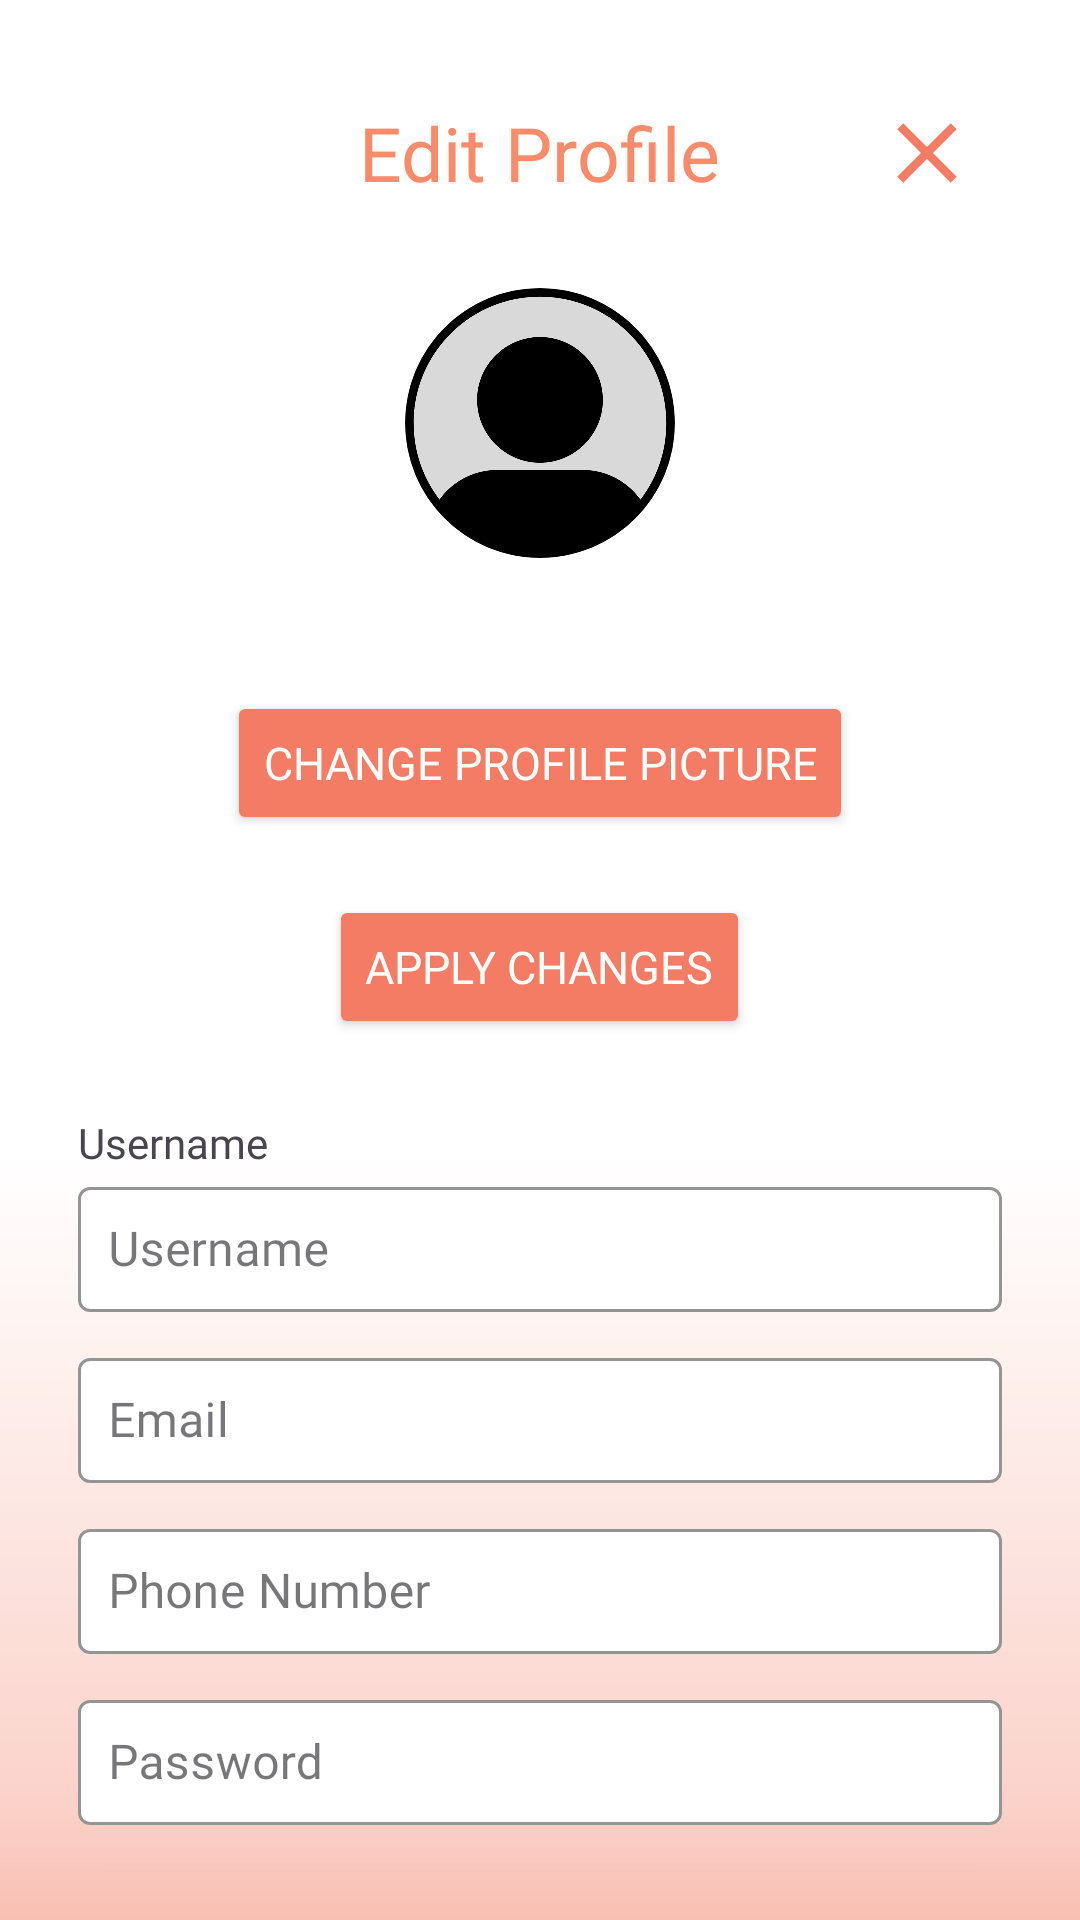

Point at icon controls on the screen. Image size 1080w x 1920h, points as [x,y].
person: [540,423]
